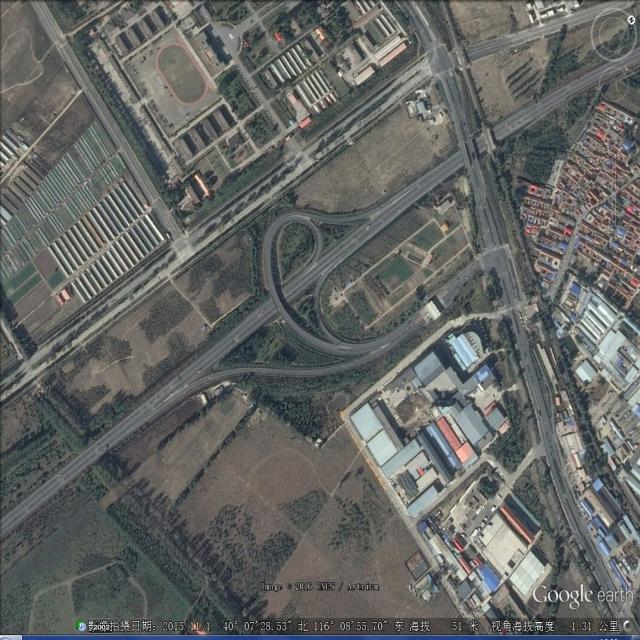overpass: (258, 208, 376, 384)
